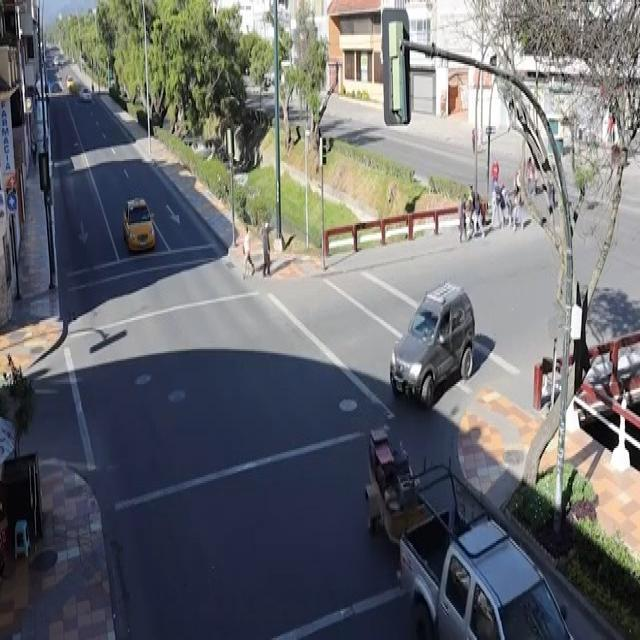CMT: (399, 472, 590, 638)
